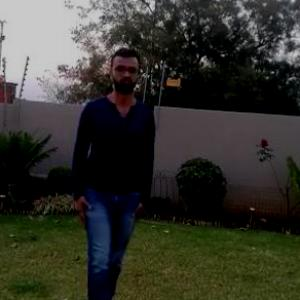follow: (74, 48, 161, 299)
